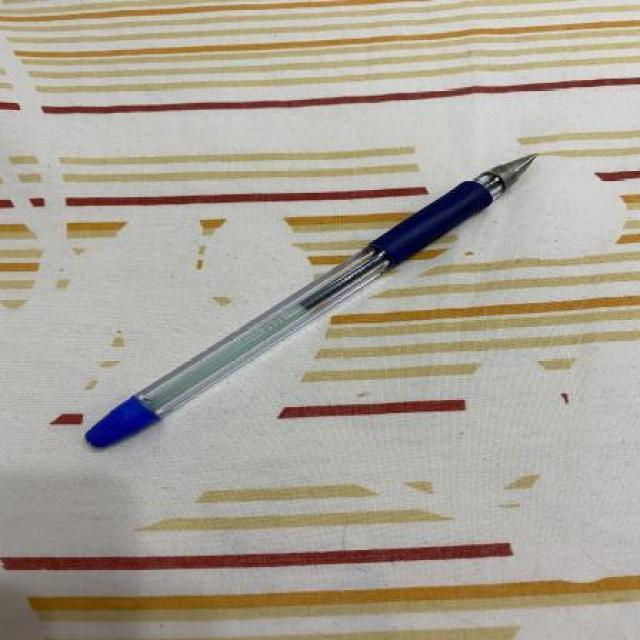pen: (87, 152, 540, 452)
